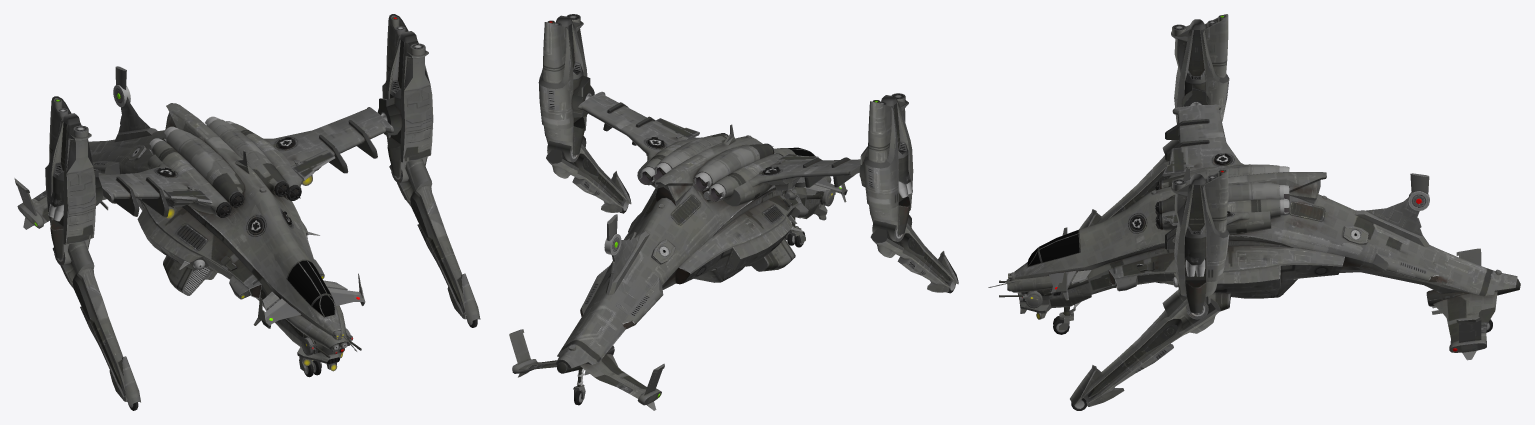
File: Copperhead_Visual.obj
3 renders of one model, left to right at view 1: azimuth 30°, elevation 25°; view 2: azimuth 150°, elevation 25°; view 3: azimuth 270°, elevation 25°, orthographic. The views are drawn at different scales.
Parts seen in each view (by area): view 1: obj1, obj3, obj2, obj10, obj4, obj6, obj12, obj9, obj15, obj13, obj7, obj8 (+5 smaller); view 2: obj1, obj2, obj3, obj10, obj4, obj13, obj9, obj7, obj6, obj15, obj5, obj8 (+3 smaller); view 3: obj1, obj3, obj2, obj4, obj10, obj9, obj7, obj6, obj5, obj8, obj27, obj12 (+1 smaller).
Boxes of the visible parts, bbox=[...] form: obj1: bbox=[14, 70, 393, 371]; obj3: bbox=[14, 68, 391, 364]; obj2: bbox=[17, 66, 384, 360]; obj10: bbox=[45, 96, 103, 244]; obj4: bbox=[377, 14, 433, 160]; obj6: bbox=[379, 15, 433, 174]; obj12: bbox=[50, 98, 101, 257]; obj9: bbox=[399, 182, 477, 318]; obj15: bbox=[62, 263, 134, 401]; obj13: bbox=[52, 241, 138, 410]; obj7: bbox=[390, 158, 477, 327]; obj8: bbox=[389, 161, 480, 325]; obj1: bbox=[512, 91, 860, 408]; obj2: bbox=[509, 95, 860, 410]; obj3: bbox=[509, 92, 860, 410]; obj10: bbox=[859, 93, 913, 234]; obj4: bbox=[538, 14, 594, 141]; obj13: bbox=[870, 215, 958, 293]; obj9: bbox=[546, 148, 631, 211]; obj7: bbox=[546, 136, 628, 213]; obj6: bbox=[541, 20, 593, 154]; obj15: bbox=[876, 224, 953, 290]; obj5: bbox=[539, 22, 587, 155]; obj8: bbox=[552, 143, 631, 212]; obj1: bbox=[988, 104, 1520, 352]; obj3: bbox=[1007, 105, 1514, 360]; obj2: bbox=[999, 105, 1520, 352]; obj4: bbox=[1171, 169, 1229, 295]; obj10: bbox=[1171, 14, 1229, 124]; obj9: bbox=[1074, 299, 1219, 405]; obj7: bbox=[1071, 289, 1220, 410]; obj6: bbox=[1174, 170, 1225, 294]; obj5: bbox=[1175, 170, 1228, 313]; obj8: bbox=[1070, 307, 1214, 406]; obj27: bbox=[1027, 230, 1079, 266]; obj12: bbox=[1174, 15, 1225, 119].
Size of the model in its own units: 2.36 by 1.52 by 3.06.
Materials: 2 (1 with a texture image).
